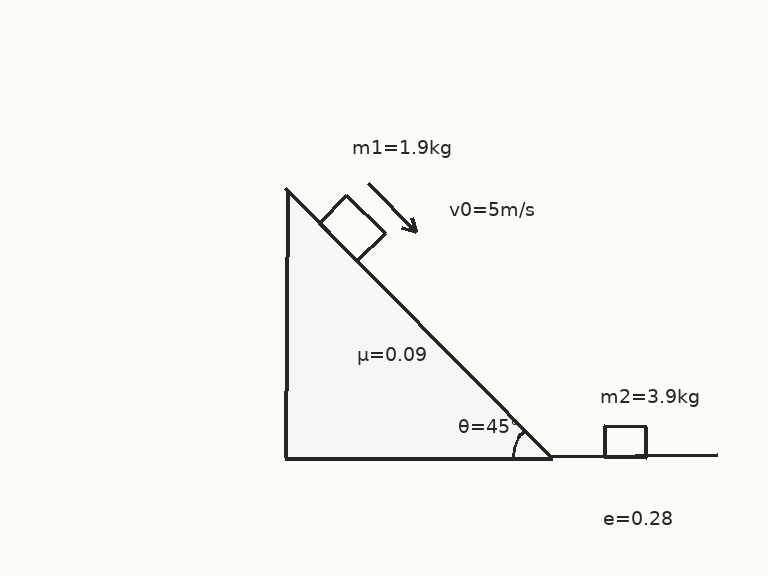block: (317, 193, 386, 263), (602, 424, 648, 459)
ramp: (283, 187, 555, 459)
